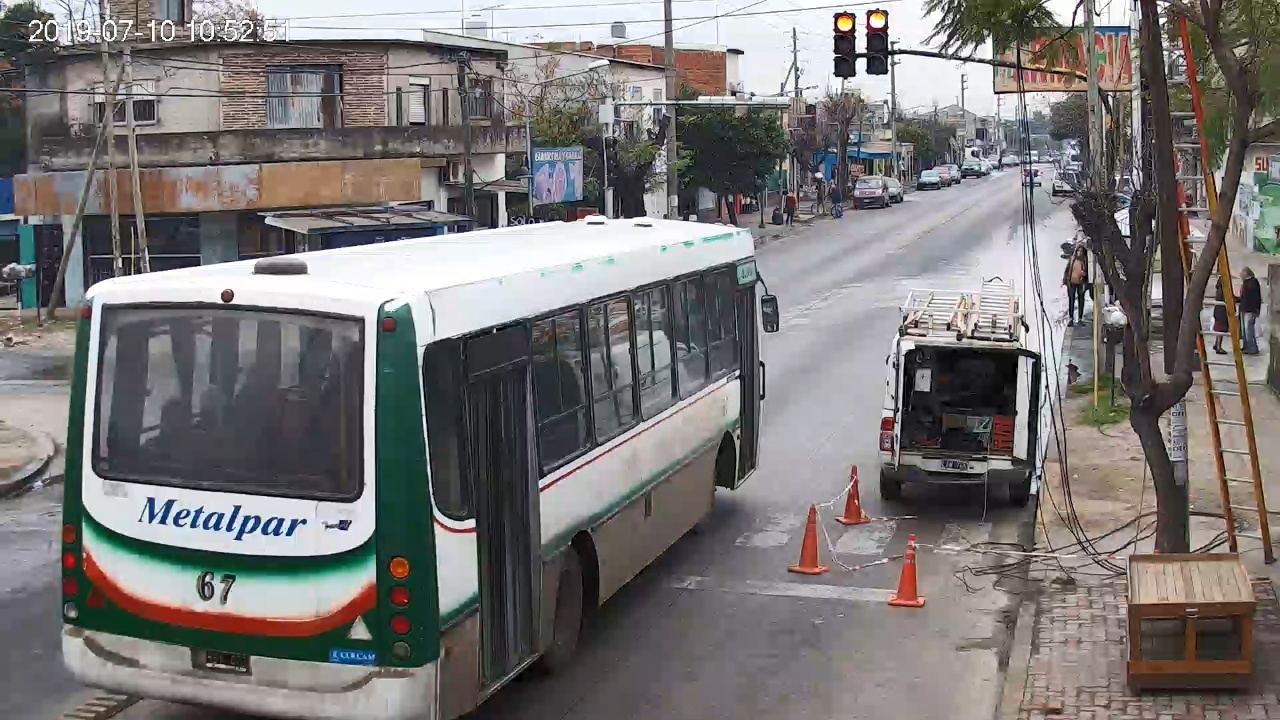bus: (59, 216, 781, 720)
traffic light: (834, 12, 855, 77), (867, 10, 886, 74)
